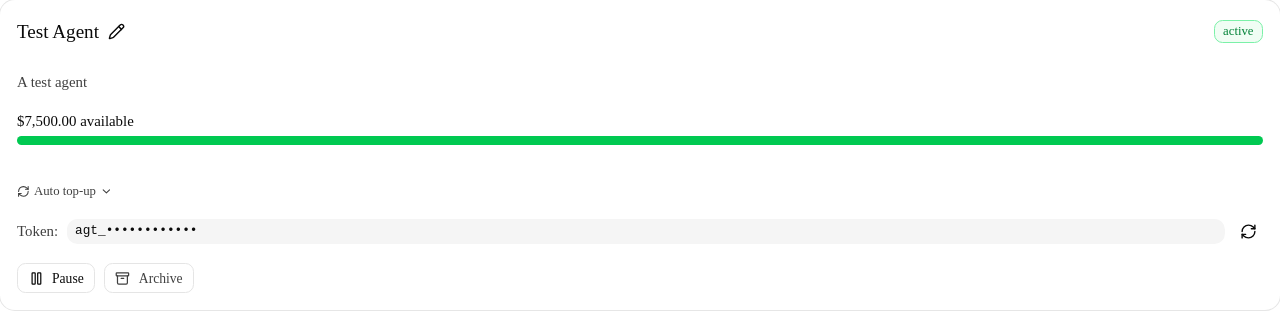
Test: AgentCard › budget top-up › cancel closes budget form
Step 1. Click the text "Click to top up budget" → (47, 120), box top-left (17, 112), bottom-right (1263, 144)
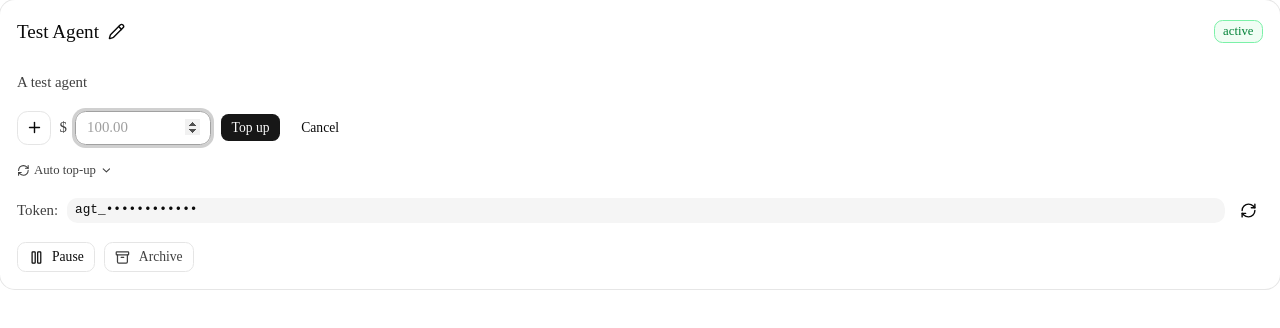
Check: the button "Top up" is shown, box top-left (220, 113), bottom-right (281, 142)
Step 2. Click the button "Cancel" → (320, 128), box top-left (290, 113), bottom-right (351, 142)
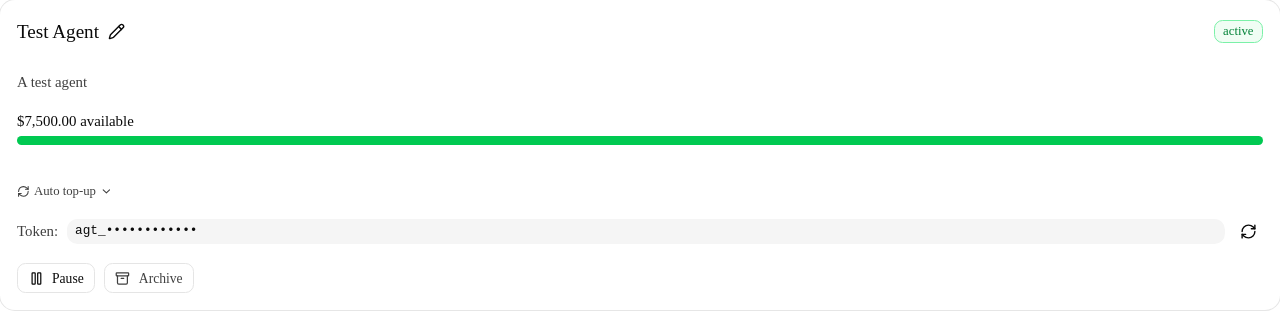
Check: the button "Top up" is gone
